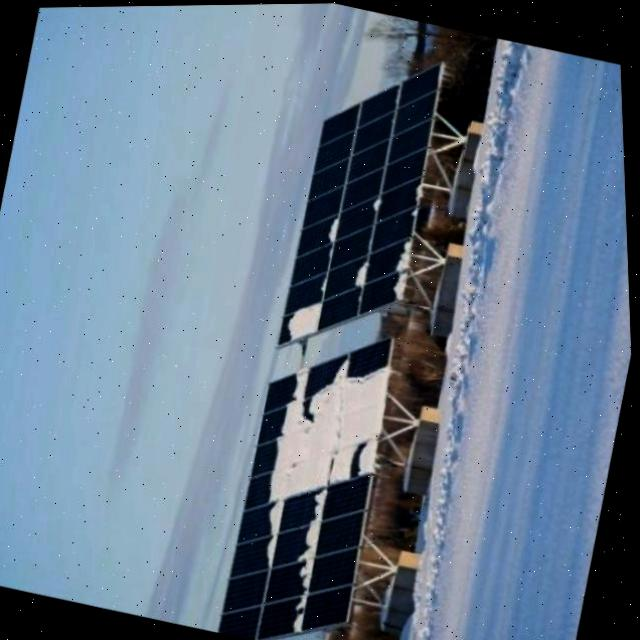Anomaly Solar Panel: (216, 314, 404, 640), (281, 40, 450, 368)
Snow: (265, 342, 396, 522), (289, 487, 335, 590), (261, 497, 287, 569), (391, 237, 416, 299), (291, 300, 325, 339), (290, 587, 311, 631), (354, 258, 375, 291), (329, 214, 346, 242), (375, 196, 385, 211)
